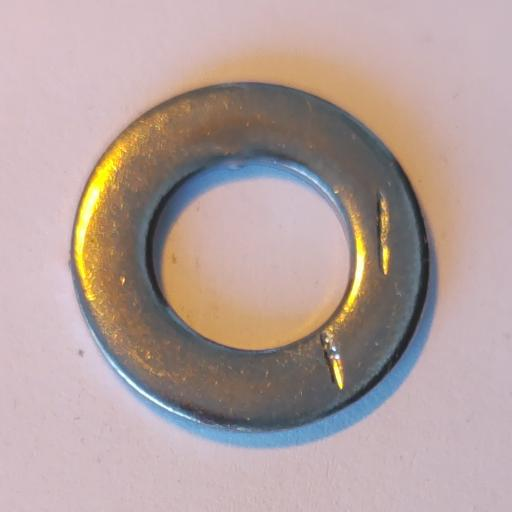scratch: (320, 333, 344, 390), (378, 189, 390, 276)
